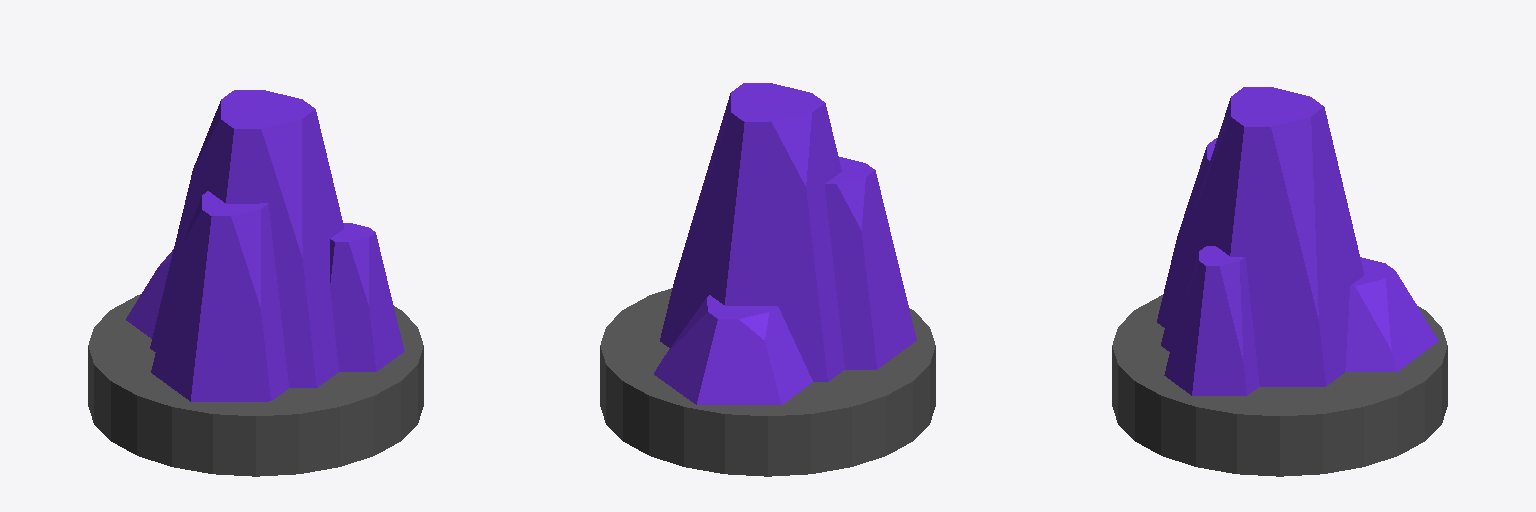
Rendered from gems_amethyst_4.obj.
3 renders of one model, left to right at view 1: azimuth 30°, elevation 25°; view 2: azimuth 150°, elevation 25°; view 3: azimuth 270°, elevation 25°, orthographic.
Parts seen in each view (by area): view 1: mergedBlocks; view 2: mergedBlocks; view 3: mergedBlocks.
Boxes of the visible parts, <box> form: mergedBlocks: <box>88,90,423,476</box>; mergedBlocks: <box>600,83,935,476</box>; mergedBlocks: <box>1112,87,1447,476</box>.
Bounding box in the file's own units: 1 × 0.9851 × 1.